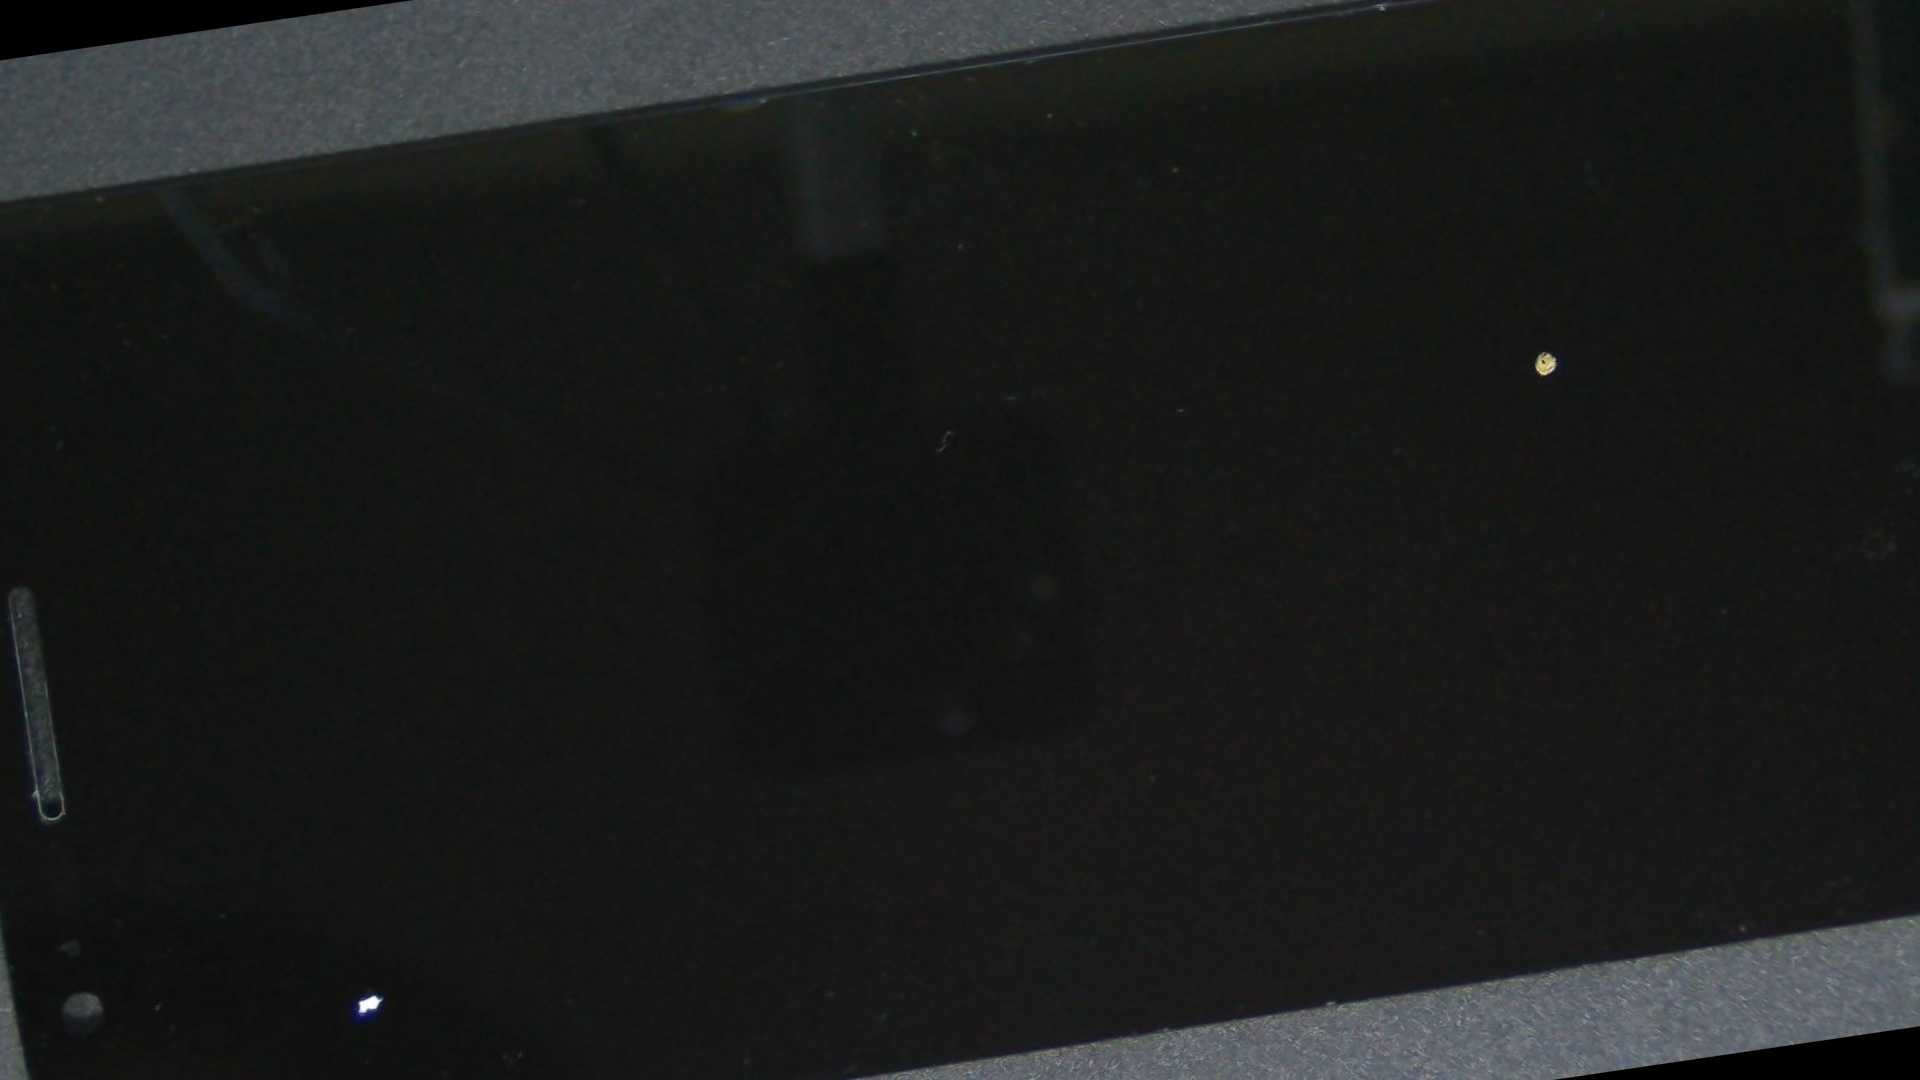oil: (655, 16, 1920, 727), (70, 473, 649, 1080)
